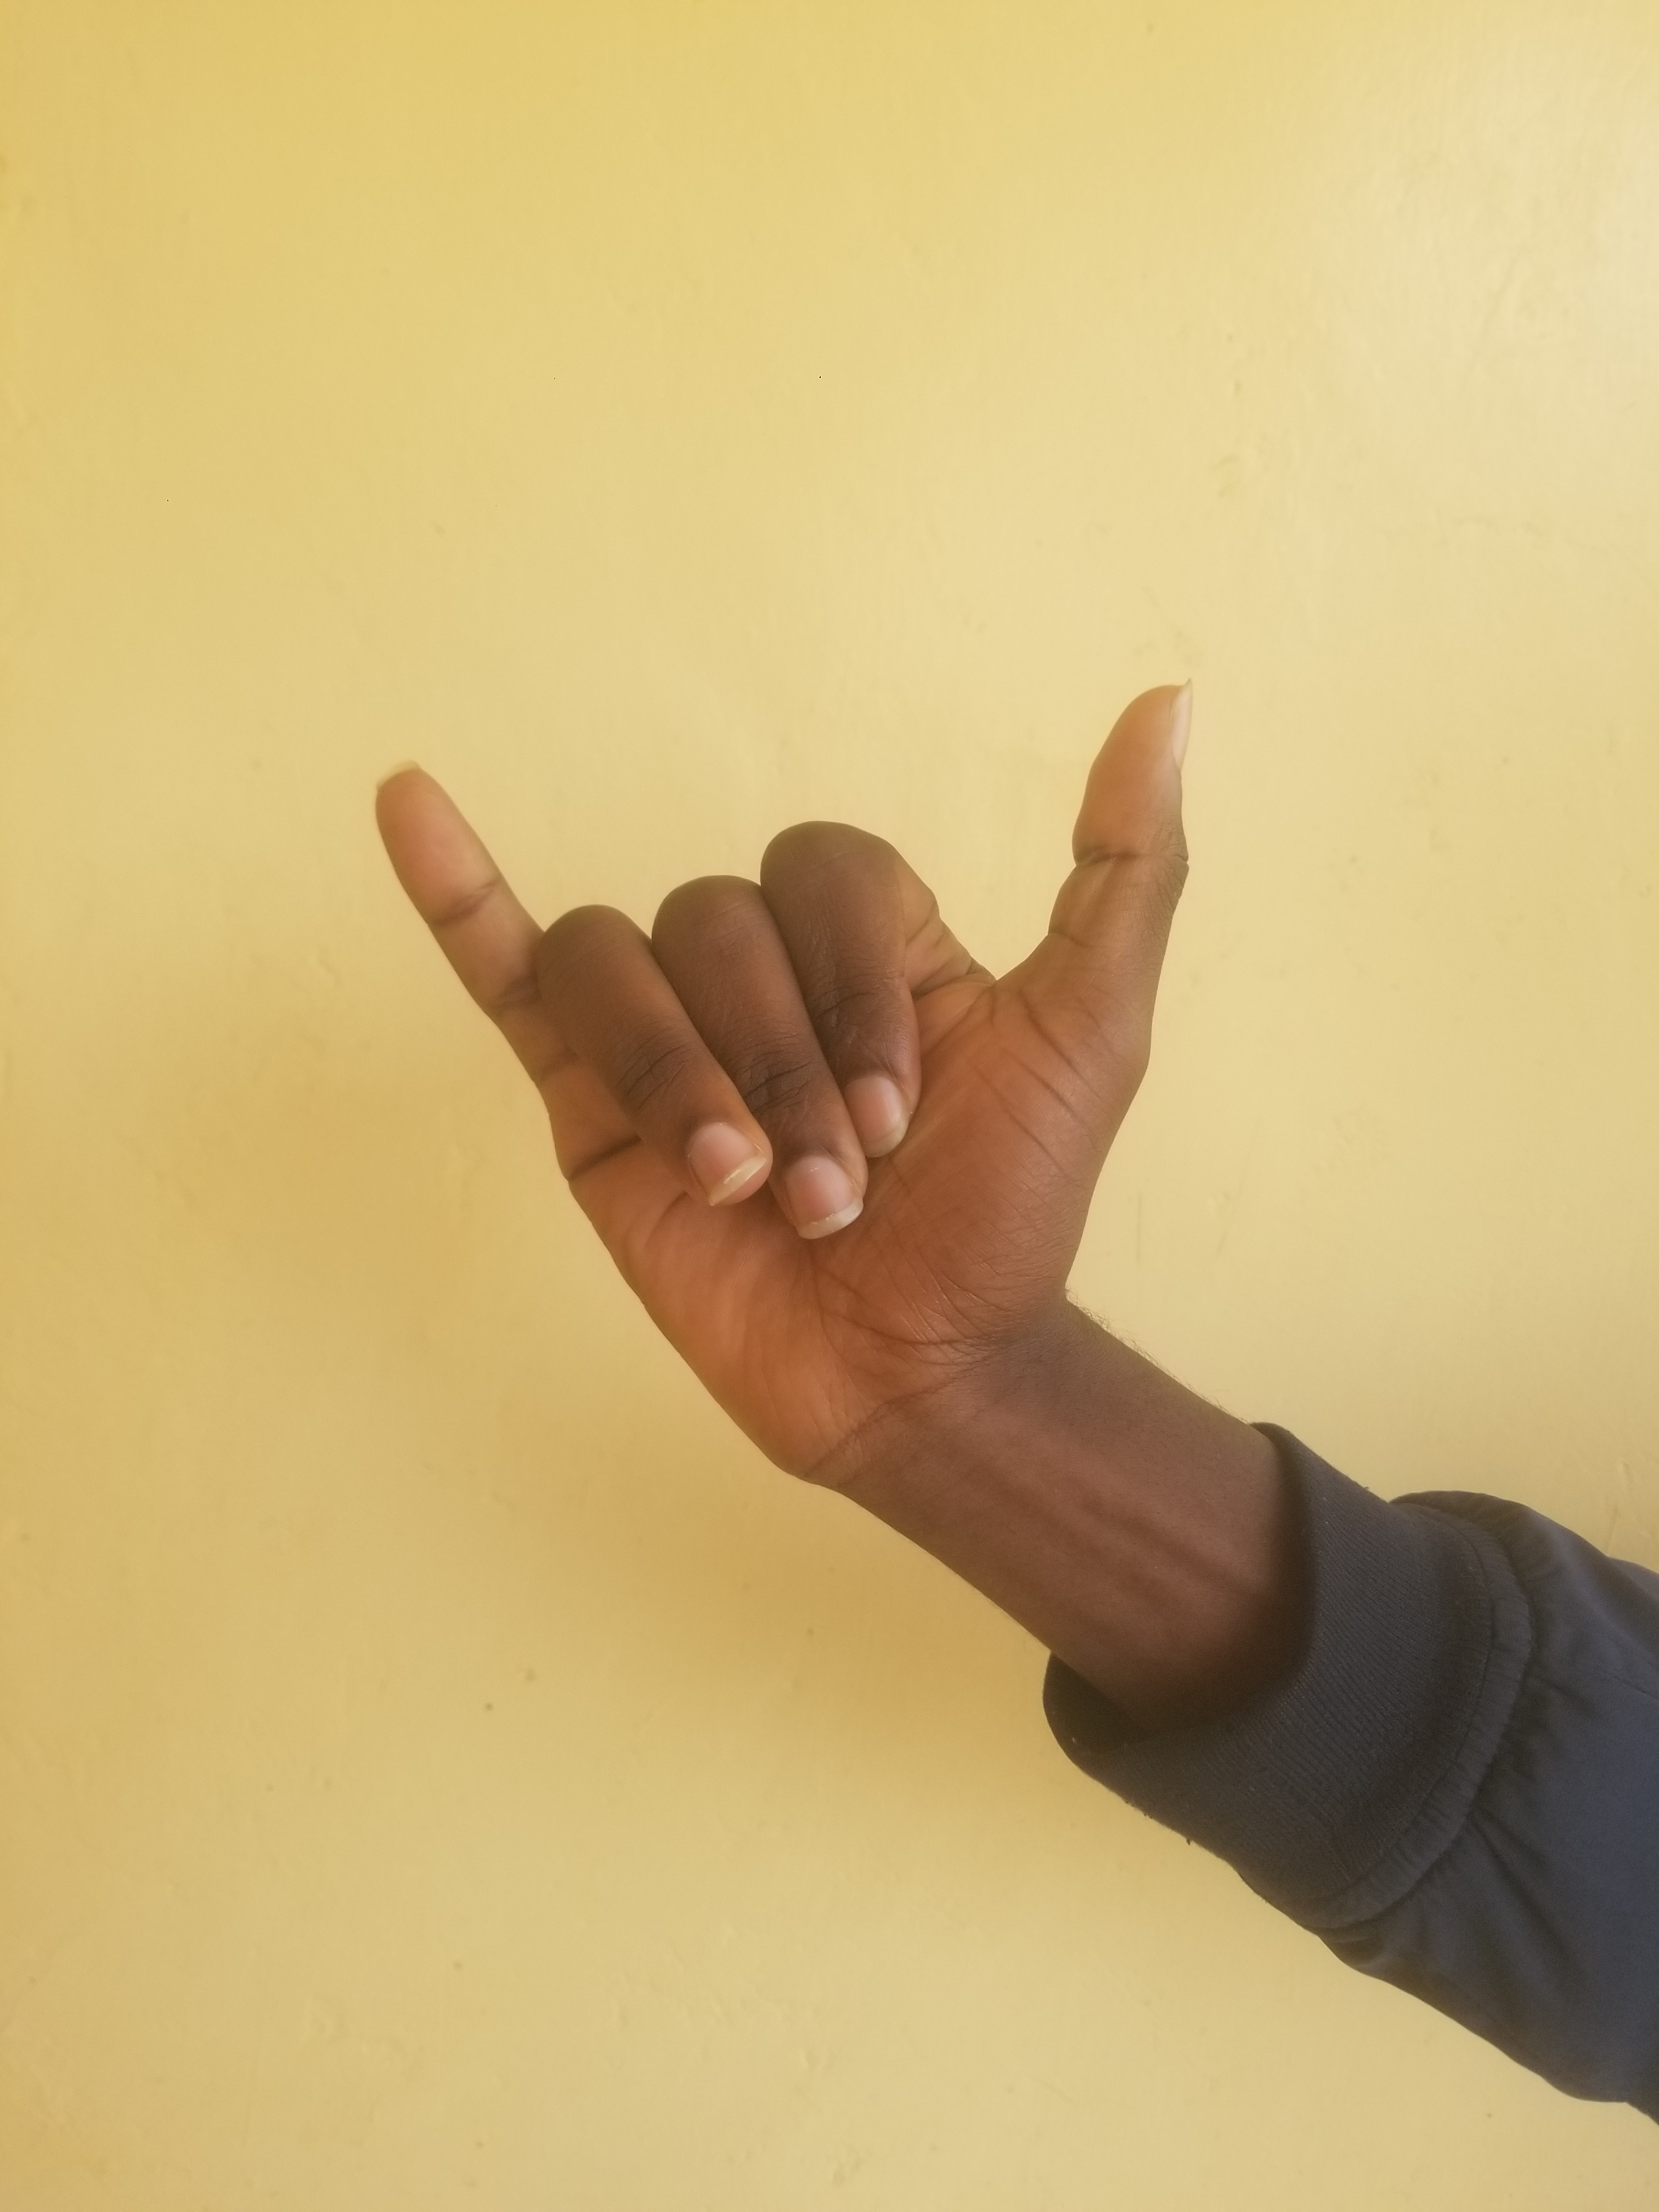call: (242, 509, 1471, 1663)
